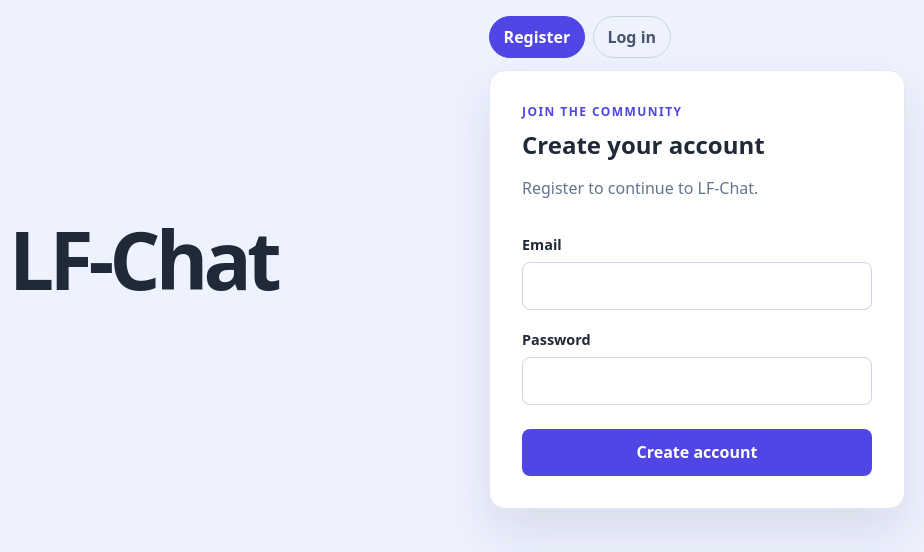
Test case: AuthPage › starts in registration mode and switches between auth forms
Expected: the heading "Create your account" is shown, [522,128,765,161]
What coordinates should you click on to do the following:
click the button "Log in"
I would click on:
 (632, 37)
Its box is [593,16,671,58].
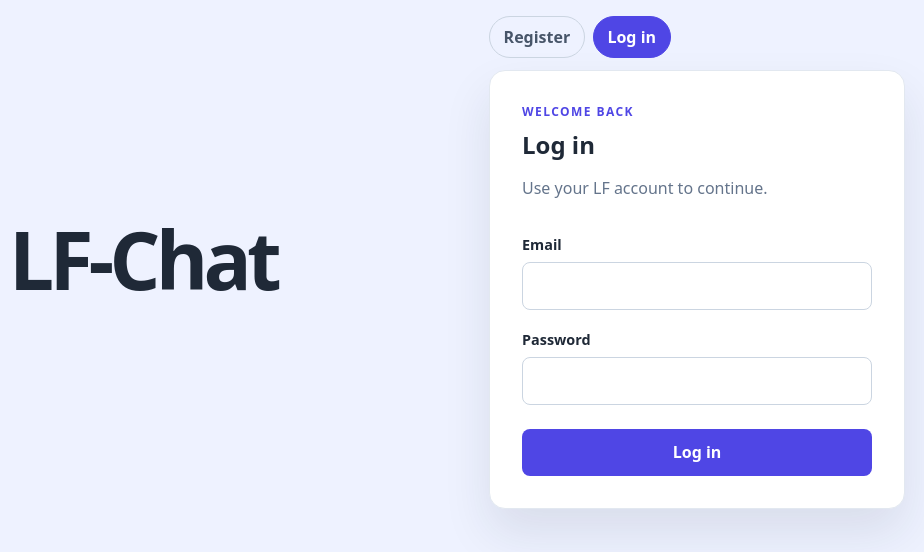
Result: the heading "Log in" is shown at [522,128,595,161]
What coordinates should you click on to do the following:
click the button "Register"
I would click on:
 (537, 37)
Its box is [489,16,585,58].
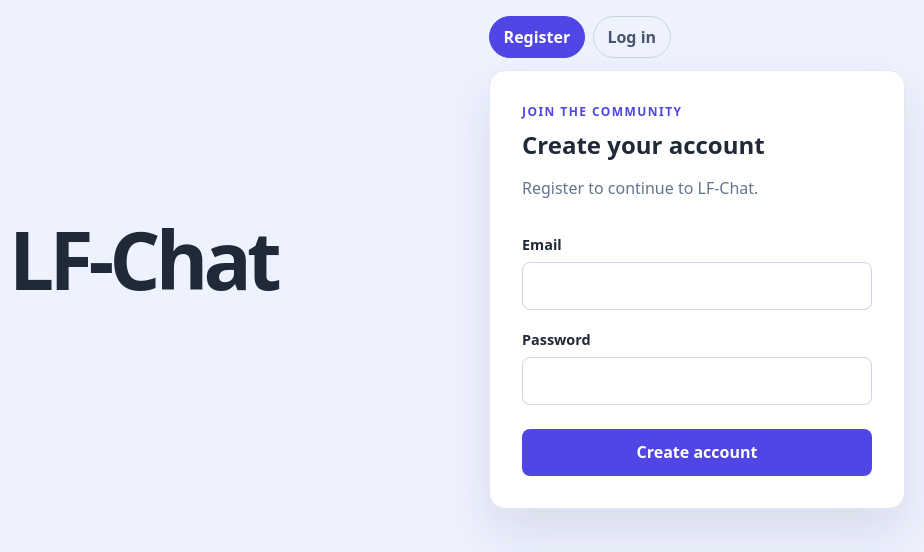
Result: the heading "Create your account" is shown at [522,128,765,161]
